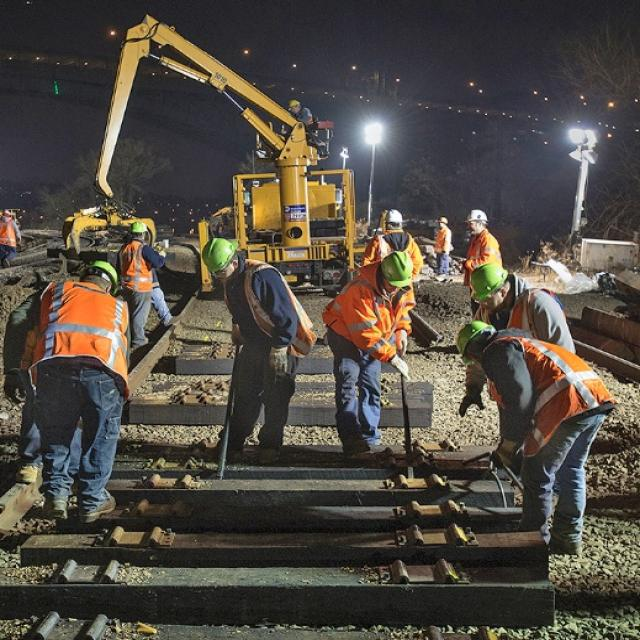boots: (32, 457, 136, 530), (205, 398, 301, 466), (501, 486, 546, 560), (552, 495, 598, 563)
gloves: (485, 414, 535, 479), (264, 329, 309, 380)
helmet: (66, 256, 128, 304), (202, 232, 257, 284), (453, 320, 504, 375), (372, 248, 421, 292), (465, 261, 512, 300)
person: (6, 248, 172, 535), (453, 316, 615, 558), (178, 237, 320, 471), (323, 243, 448, 464)
vest: (44, 277, 156, 392), (328, 269, 418, 366)
